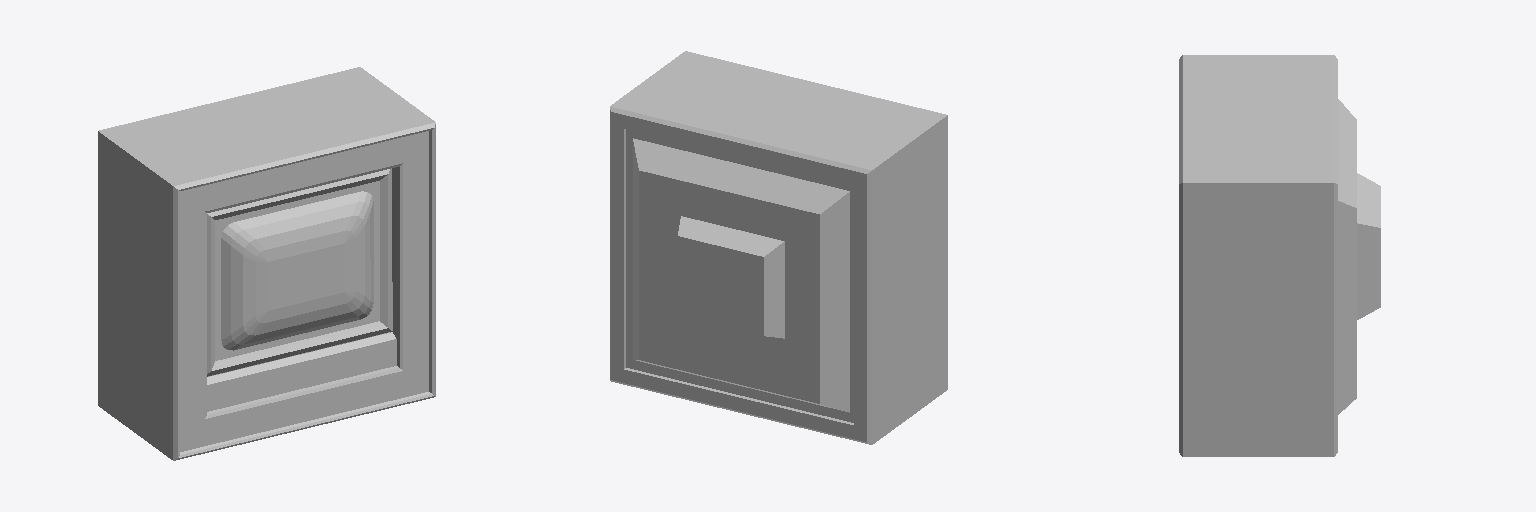
3 renders of one model, left to right at view 1: azimuth 30°, elevation 25°; view 2: azimuth 150°, elevation 25°; view 3: azimuth 270°, elevation 25°, orthographic.
Parts seen in each view (by area): view 1: tv_mp_1; view 2: tv_mp_1; view 3: tv_mp_1.
Boxes of the visible parts, x1=… form: tv_mp_1: x1=98, y1=67, x2=435, y2=460; tv_mp_1: x1=610, y1=51, x2=947, y2=444; tv_mp_1: x1=1179, y1=55, x2=1380, y2=456.
Bounding box in the file's own units: 0.63 × 0.63 × 0.42.